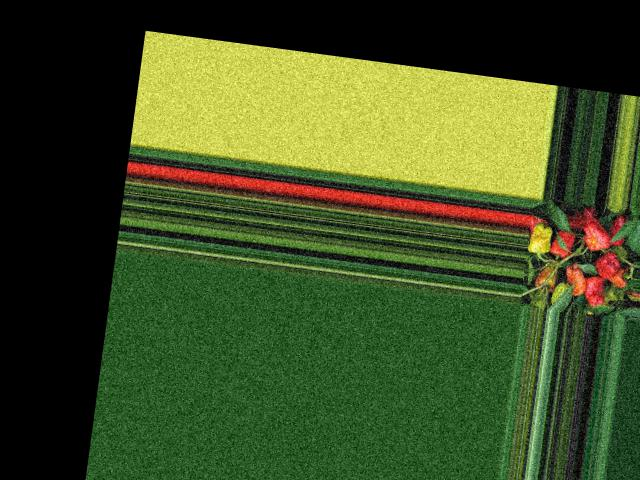bell_pepper: (609, 272, 630, 288)
